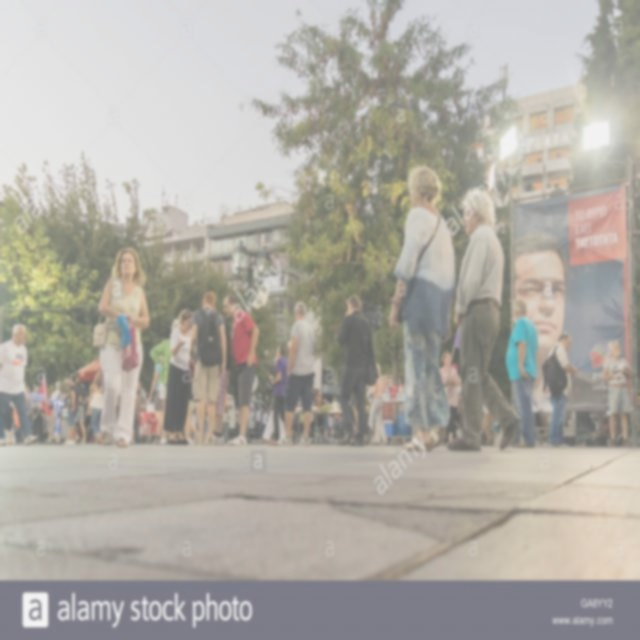pessoa: (384, 162, 458, 456), (445, 186, 523, 452), (512, 217, 576, 417), (90, 243, 151, 450), (335, 292, 379, 446), (274, 299, 319, 447), (188, 287, 228, 447), (502, 294, 540, 448), (222, 290, 260, 444), (0, 322, 40, 447), (163, 308, 198, 447), (542, 332, 580, 448), (149, 318, 182, 445), (601, 339, 635, 448), (212, 300, 232, 446), (269, 342, 297, 446), (292, 388, 346, 438), (262, 354, 286, 446), (438, 349, 461, 444), (366, 362, 389, 446), (128, 382, 156, 444), (149, 352, 166, 445), (21, 380, 46, 443), (474, 391, 502, 446), (449, 358, 466, 444), (86, 368, 105, 444), (45, 380, 66, 446), (66, 374, 83, 444), (73, 370, 87, 444), (180, 397, 200, 444), (81, 394, 93, 444), (156, 378, 172, 413), (4, 400, 15, 446), (88, 366, 106, 394), (59, 388, 72, 408), (255, 406, 261, 439)
